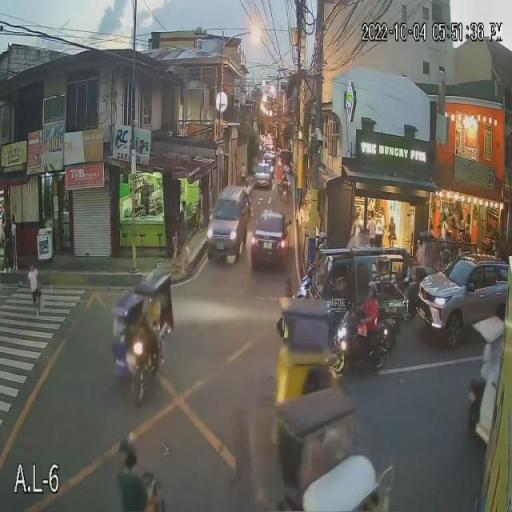helmet: (119, 435, 140, 466), (368, 283, 378, 299), (318, 244, 328, 252), (244, 179, 250, 187), (283, 174, 287, 179)
motorcycle: (333, 312, 395, 373), (144, 474, 169, 512), (298, 273, 312, 300), (281, 186, 290, 203), (244, 196, 252, 214)
rider: (354, 298, 380, 358), (117, 468, 149, 512), (242, 186, 252, 203), (282, 178, 289, 193)
